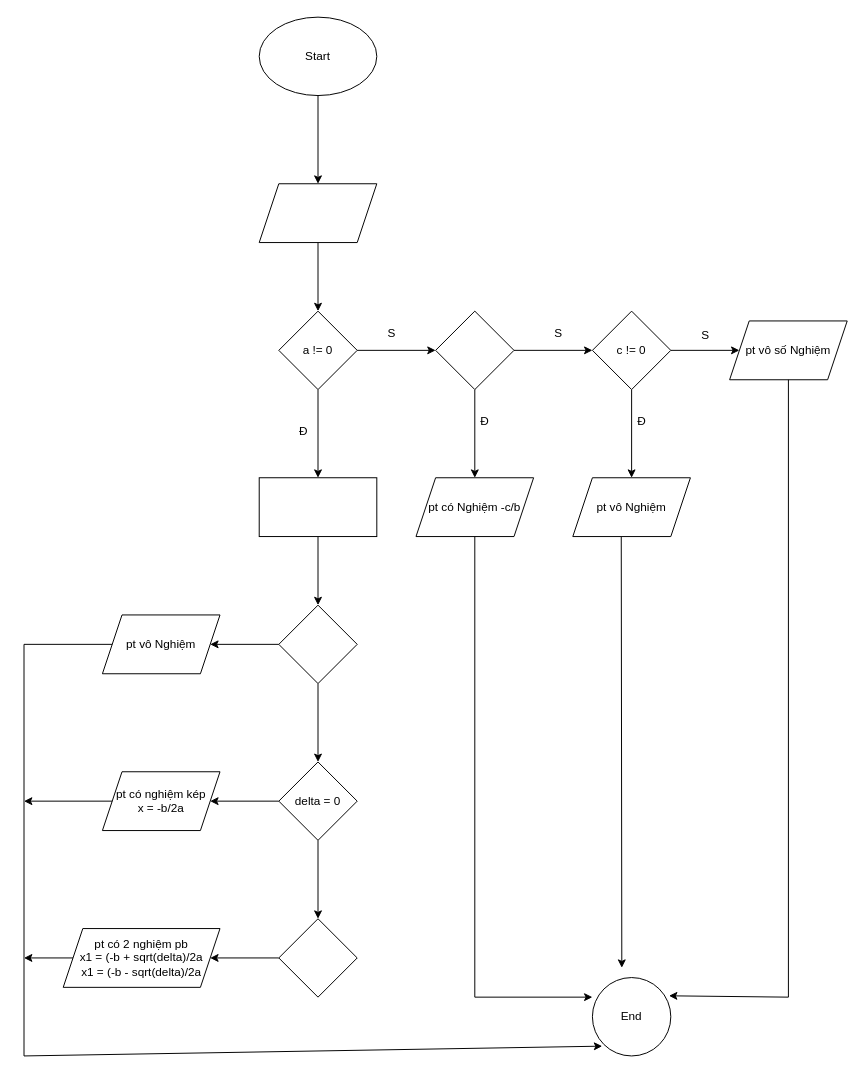
Some shapes in this 864 by 1081 pixel diagram are drawn without their labels. The box of each missing label's shape, as (x1, y1, x2, y2) in pixels:
b != 0: (435, 310, 514, 390)
delta < 0: (278, 604, 357, 684)
delta = b^2 - 4ac: (258, 477, 377, 537)
delta > 0: (278, 918, 357, 997)
Nhập 3 số a, b, c: (258, 183, 377, 243)
